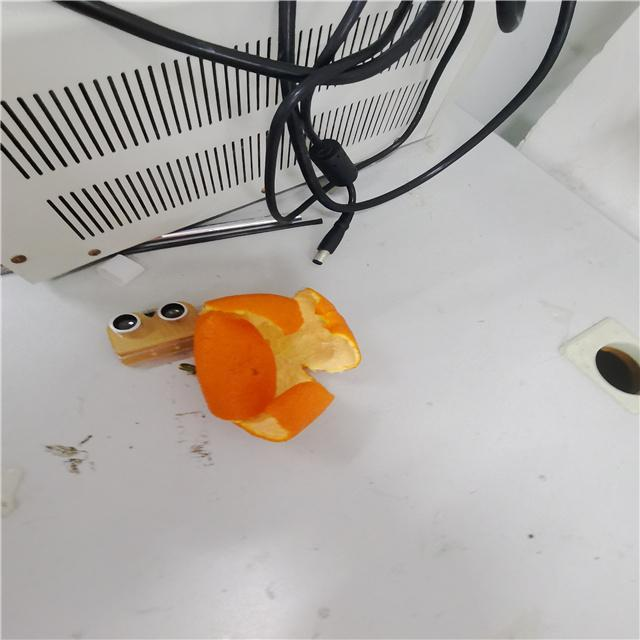orange-peel: (188, 286, 364, 446)
